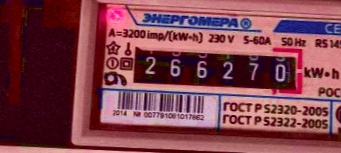0: (273, 60, 288, 81)
2: (143, 53, 159, 74), (220, 58, 236, 79)
6: (168, 55, 183, 76), (195, 57, 210, 78)
7: (246, 59, 260, 79)
screen: (124, 34, 311, 98)
